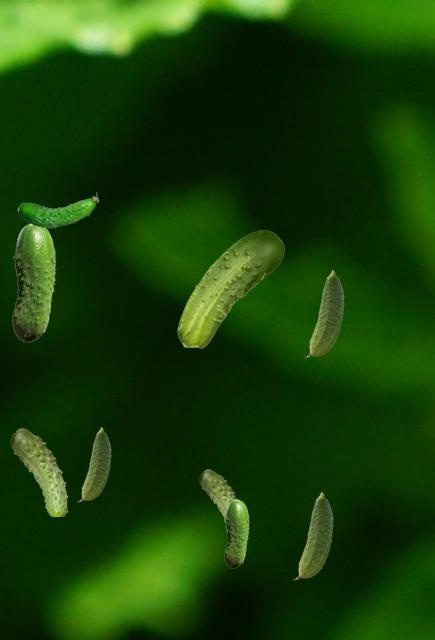cucumber: (177, 230, 283, 347), (12, 224, 55, 341), (10, 428, 67, 515), (293, 492, 332, 579), (304, 270, 343, 357), (17, 192, 97, 227), (77, 427, 110, 501), (199, 469, 236, 532), (224, 499, 248, 567)
